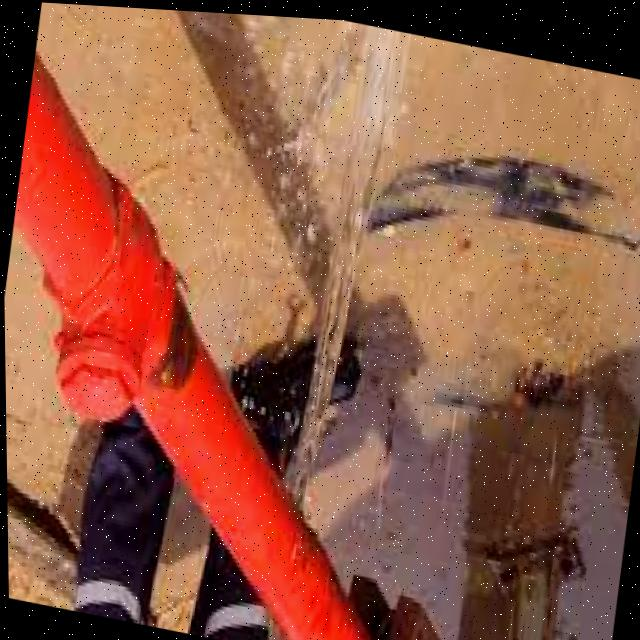corrosion: (164, 297, 390, 611)
